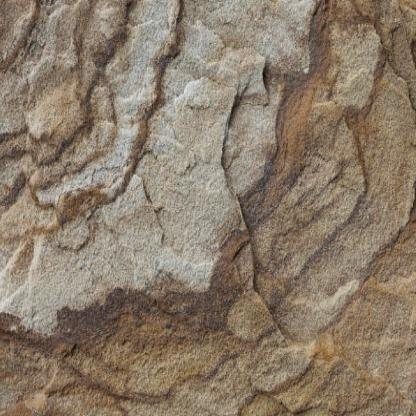Sedimentary_Sandstone: (1, 0, 415, 415)
